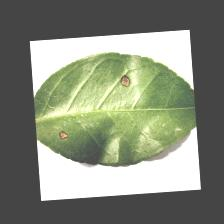canker: (48, 70, 136, 150)
